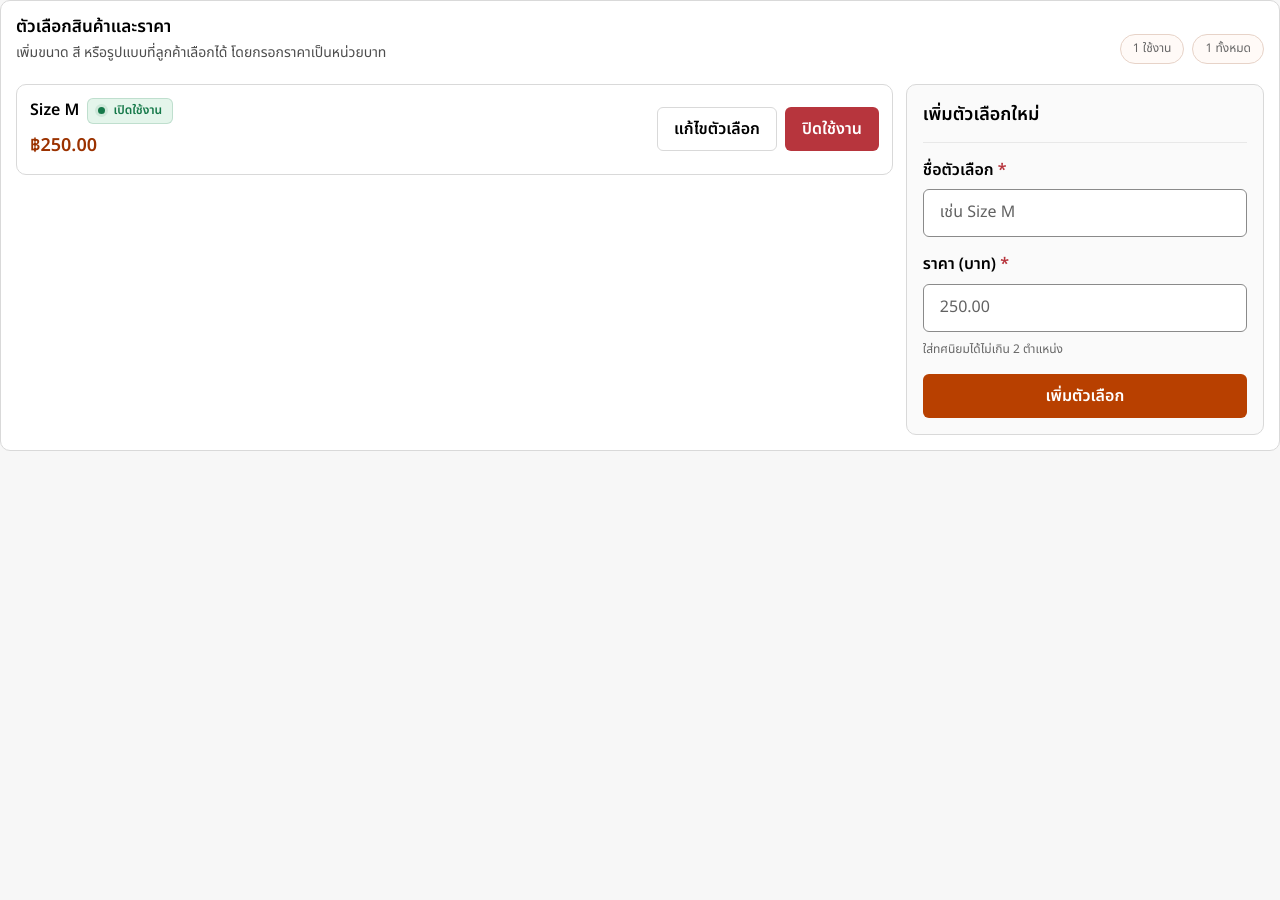
Test: VariantManagement › requires confirmation before soft-deactivating a Variant
This screenshot has width=1280, height=900.
Click the button "ปิดใช้งาน". click: (832, 129)
box: [785, 107, 879, 151]
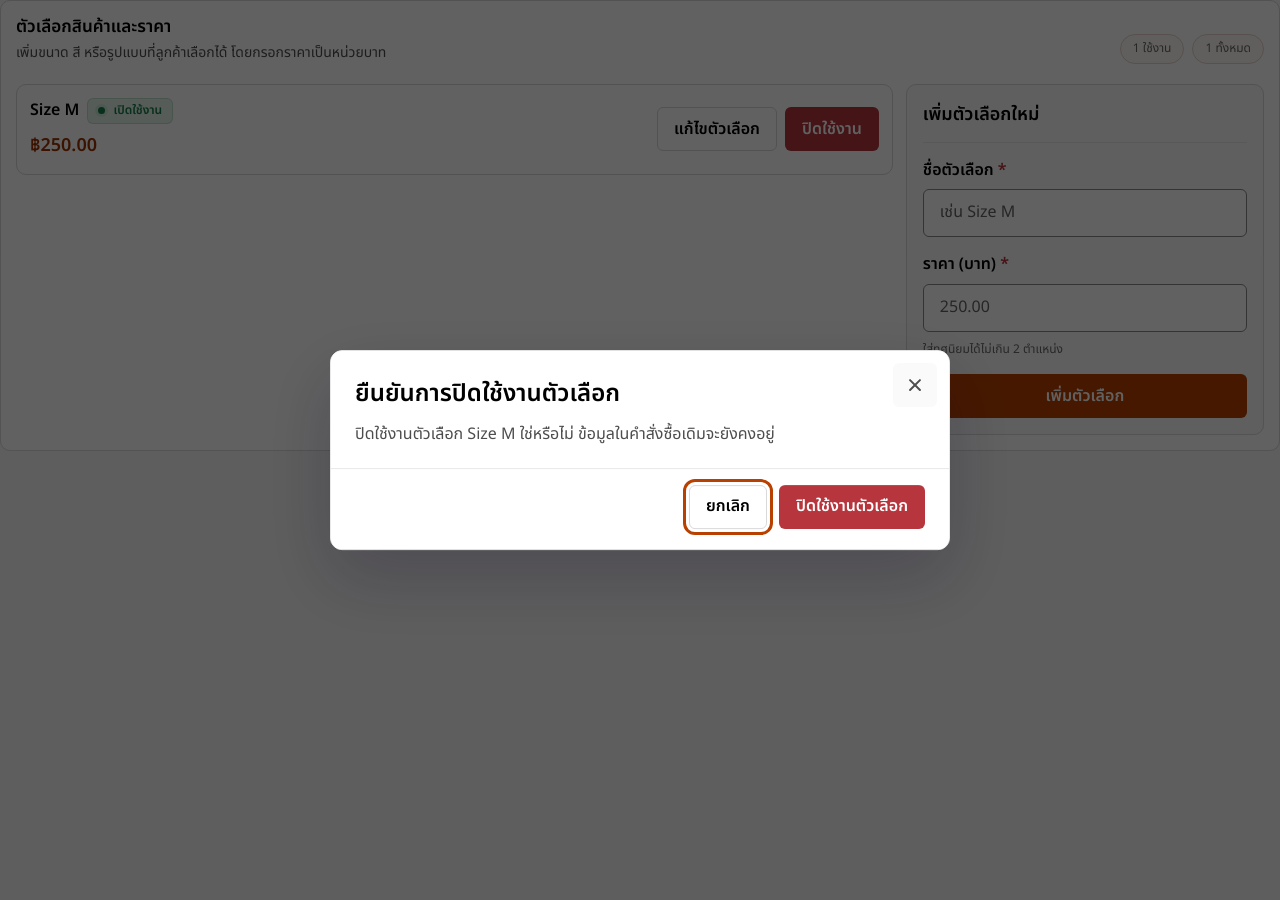
Result: the dialog "ยืนยันการปิดใช้งานตัวเลือก" is shown at [330, 350, 950, 550]
Click the button "ปิดใช้งานตัวเลือก". click: (852, 507)
box: [779, 485, 925, 529]
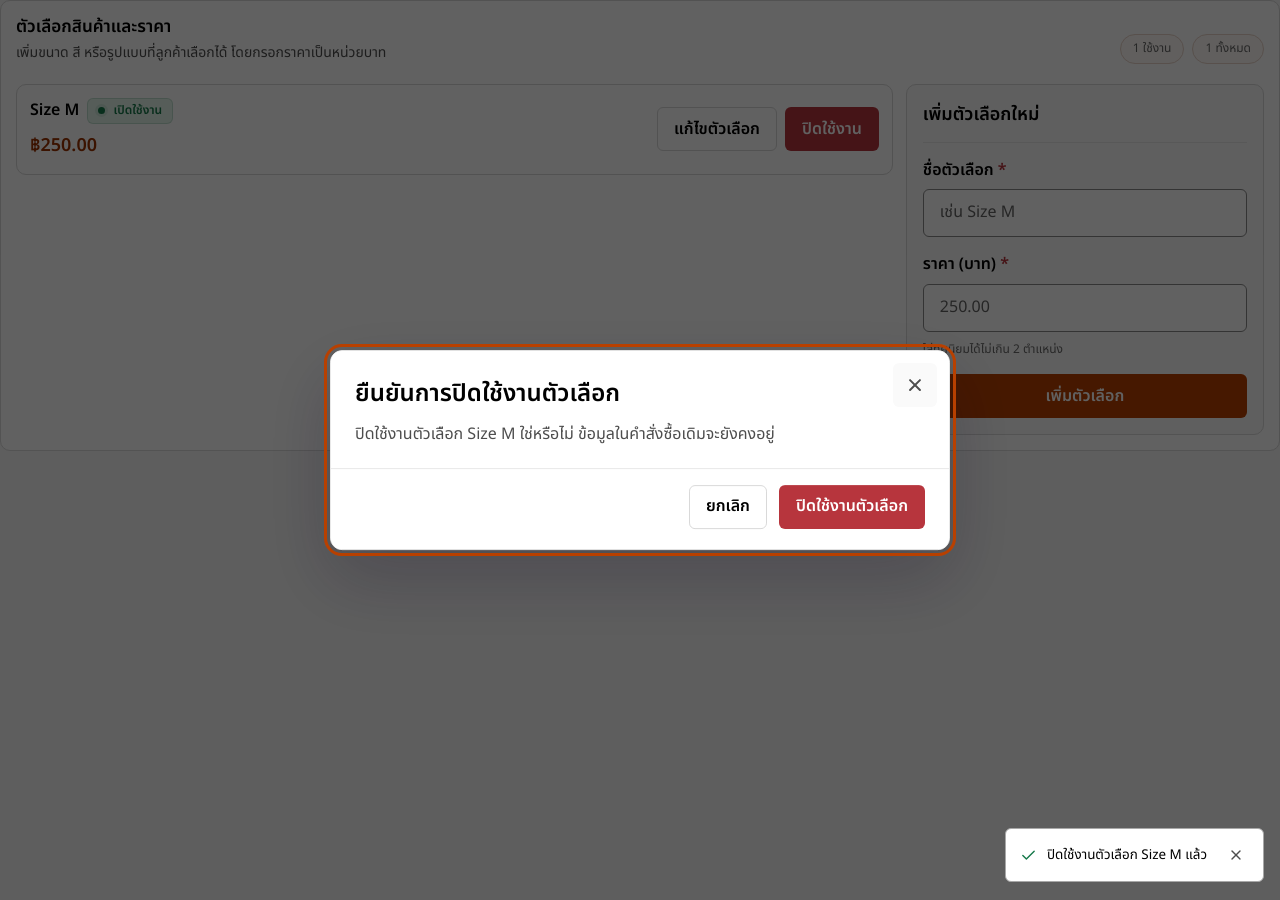
Result: the text "ปิดใช้งานตัวเลือก Size M แล้ว" is shown at [1047, 845, 1207, 865]
